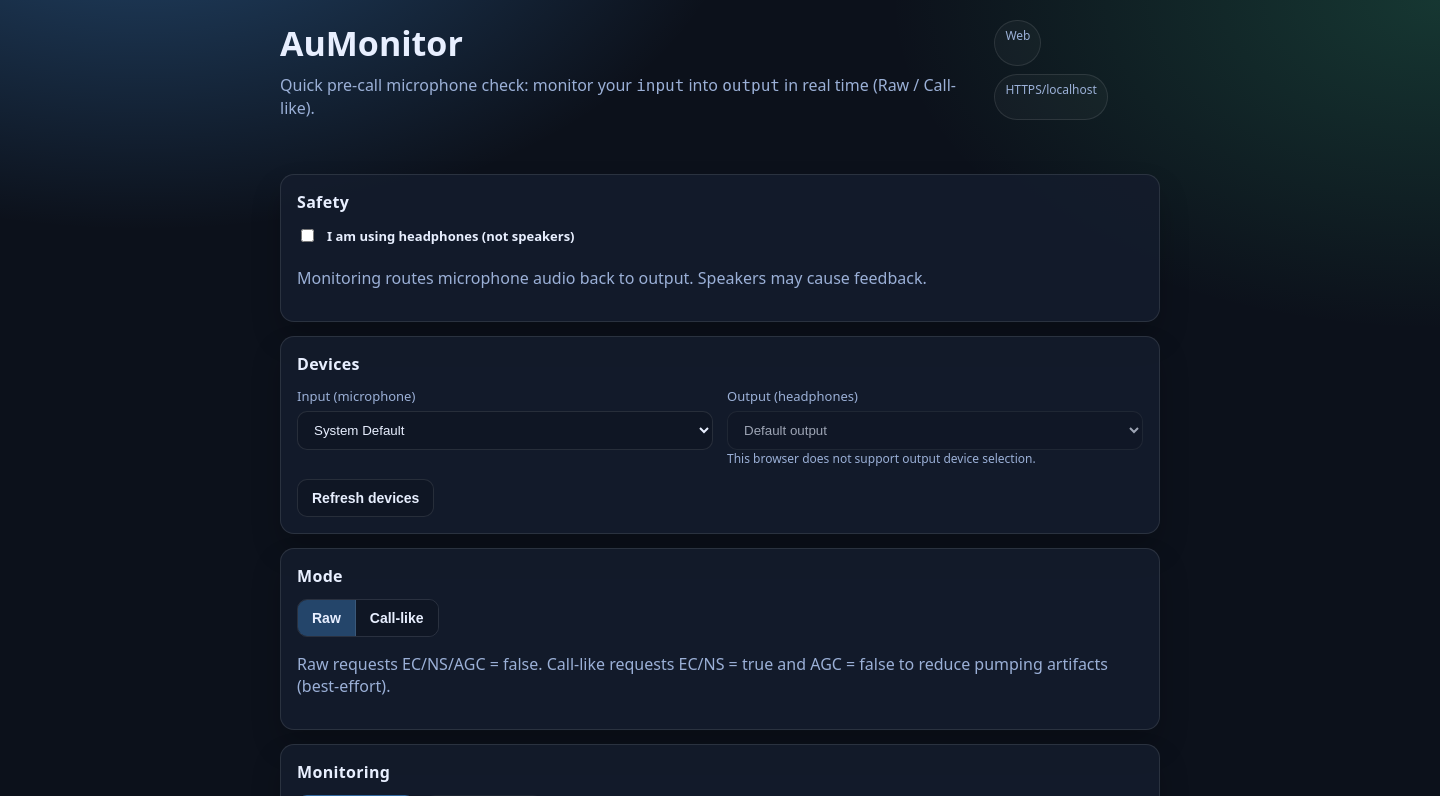
Test case: App › shows troubleshooting block when input warning is reported
Click the checkbox labelled "I am using headphones (not speakers)".
click(308, 236)  # box [301,229,314,242]
(page scrolled)
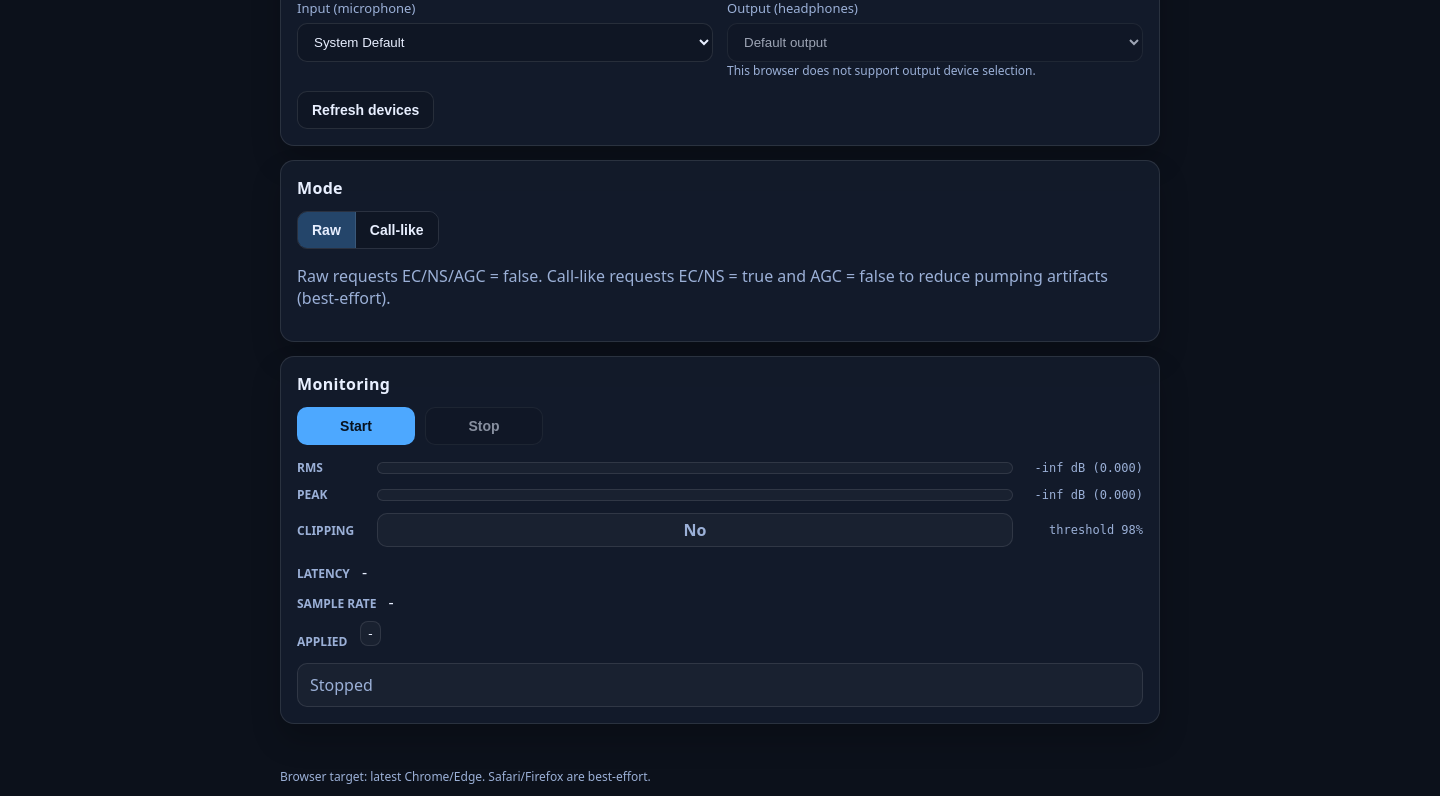
Click the button "Start".
click(356, 426)  # box [297,407,415,445]
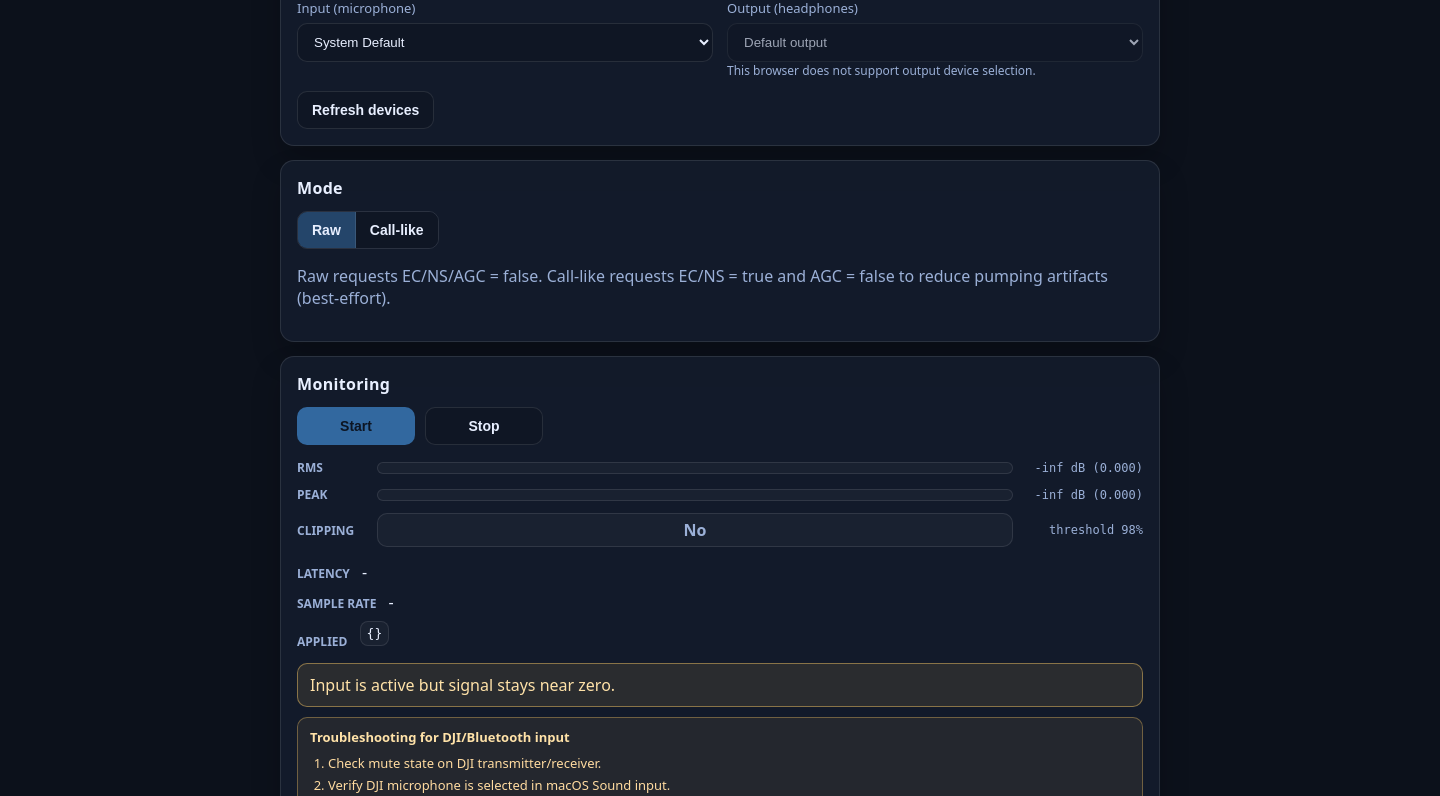
Now the text "Troubleshooting for DJI/Bluetooth input" is shown, box [310,728,570,746]
